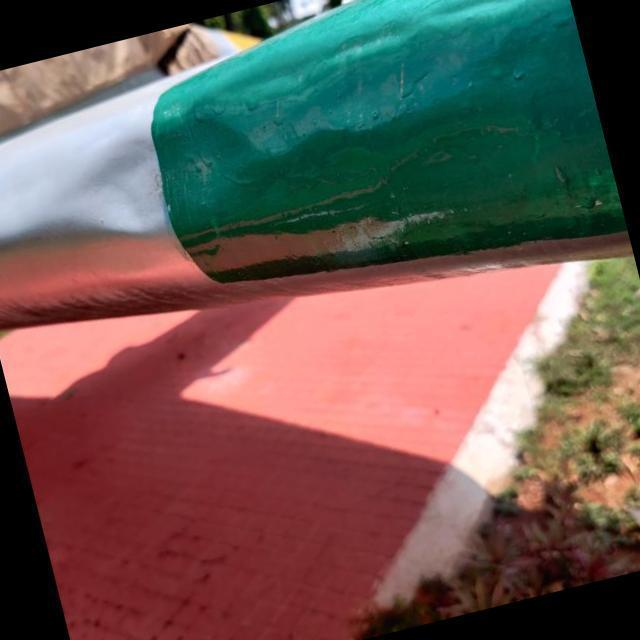Dent: (29, 81, 294, 287)
